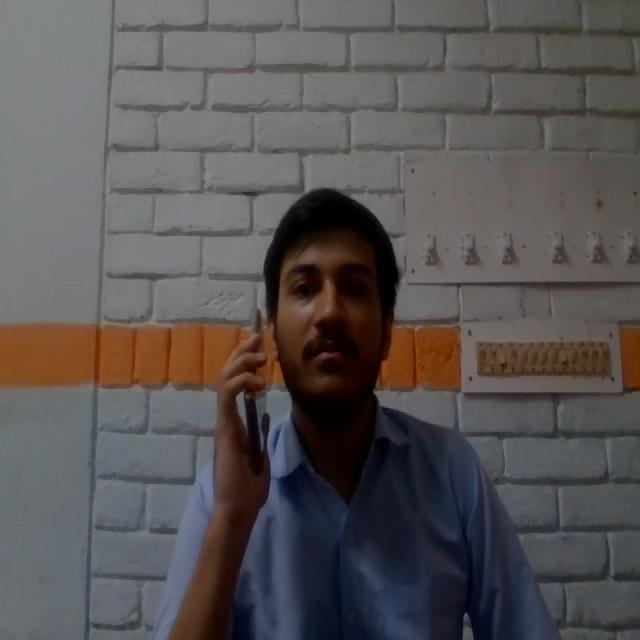oncall: (149, 188, 561, 640)
phone: (248, 306, 268, 466)
